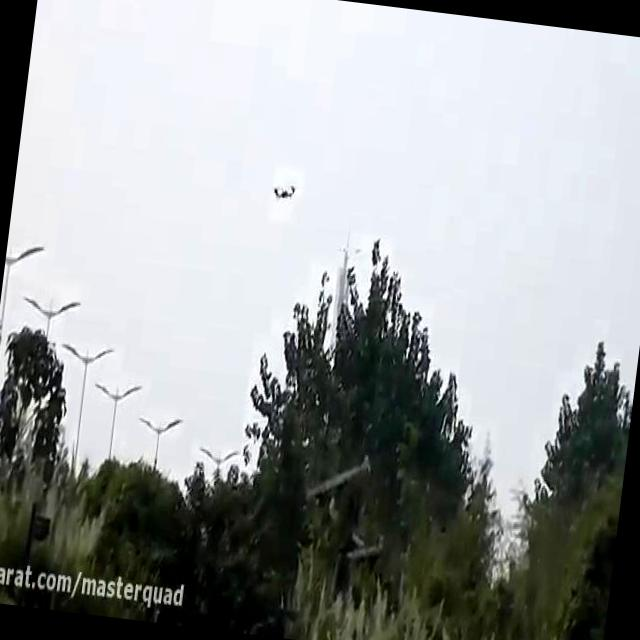drone: (268, 172, 299, 205)
